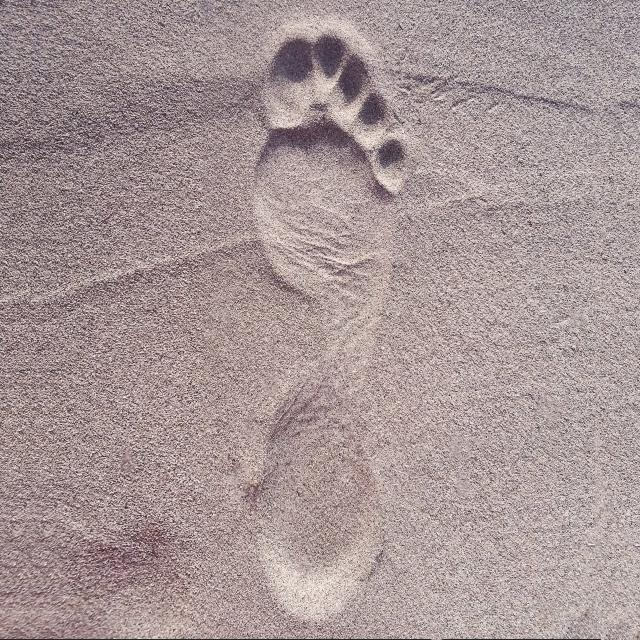human_footprint: (237, 18, 414, 625)
